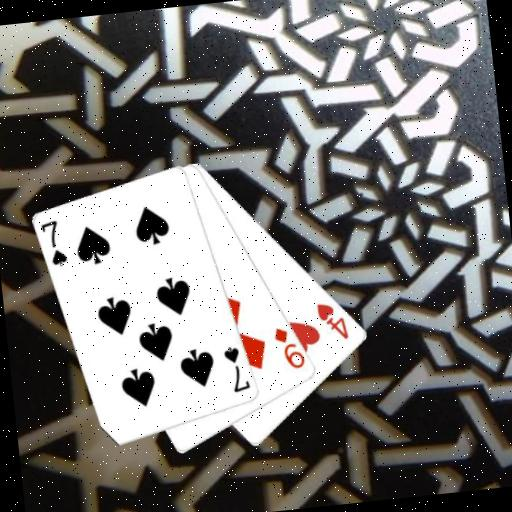4H: (313, 297, 351, 344)
7S: (220, 342, 253, 396), (37, 216, 70, 270)
9D: (271, 322, 308, 373)
